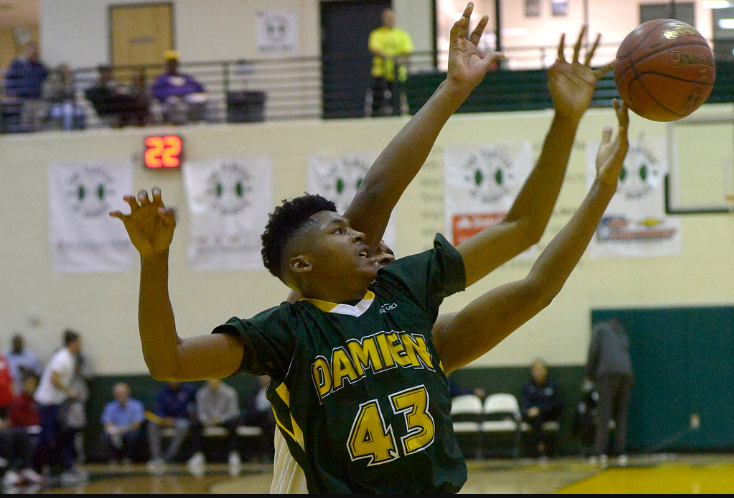ball: (615, 18, 717, 123)
player: (118, 93, 636, 493)
